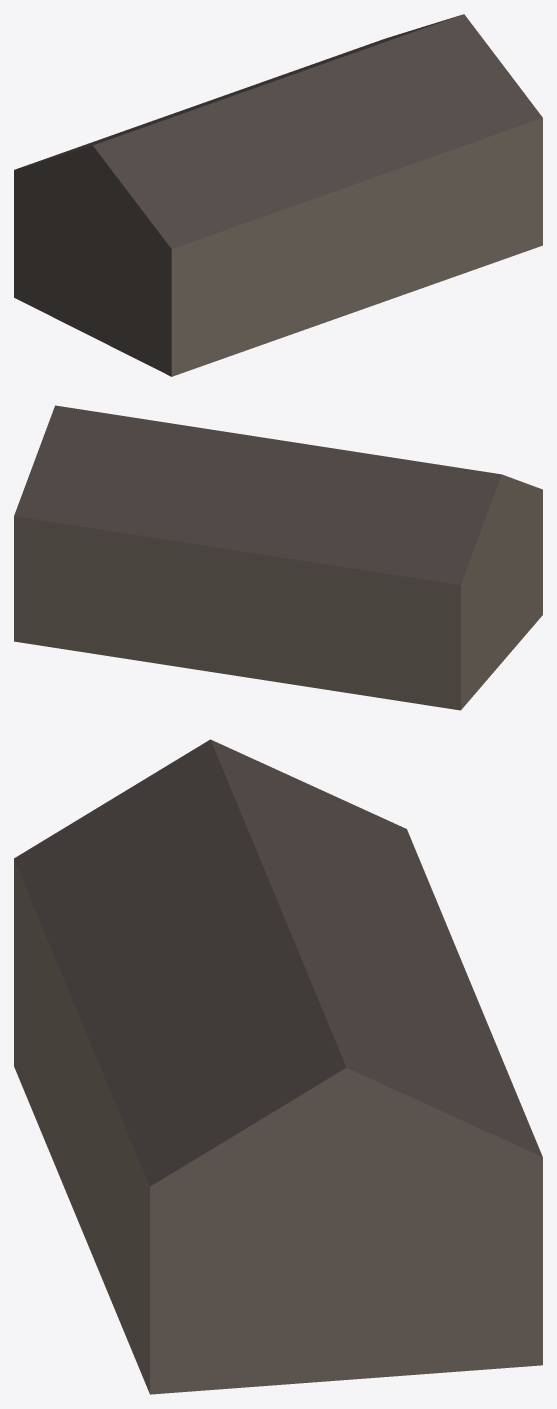
3 views of the same model, one above another, from view 1: azimuth 30°, elevation 25°; view 2: azimuth 150°, elevation 25°; view 3: azimuth 270°, elevation 25° (orthographic). The views are drawn at different scales.
Visible parts, largest first — view 1: HP-w859447893; view 2: HP-w859447893; view 3: HP-w859447893.
Part boxes in pixels (<box>): HP-w859447893: <box>14,14,542,376</box>; HP-w859447893: <box>14,405,542,710</box>; HP-w859447893: <box>14,739,542,1394</box>.
Size of the model in its own units: 22.13 by 9.01 by 13.84.
